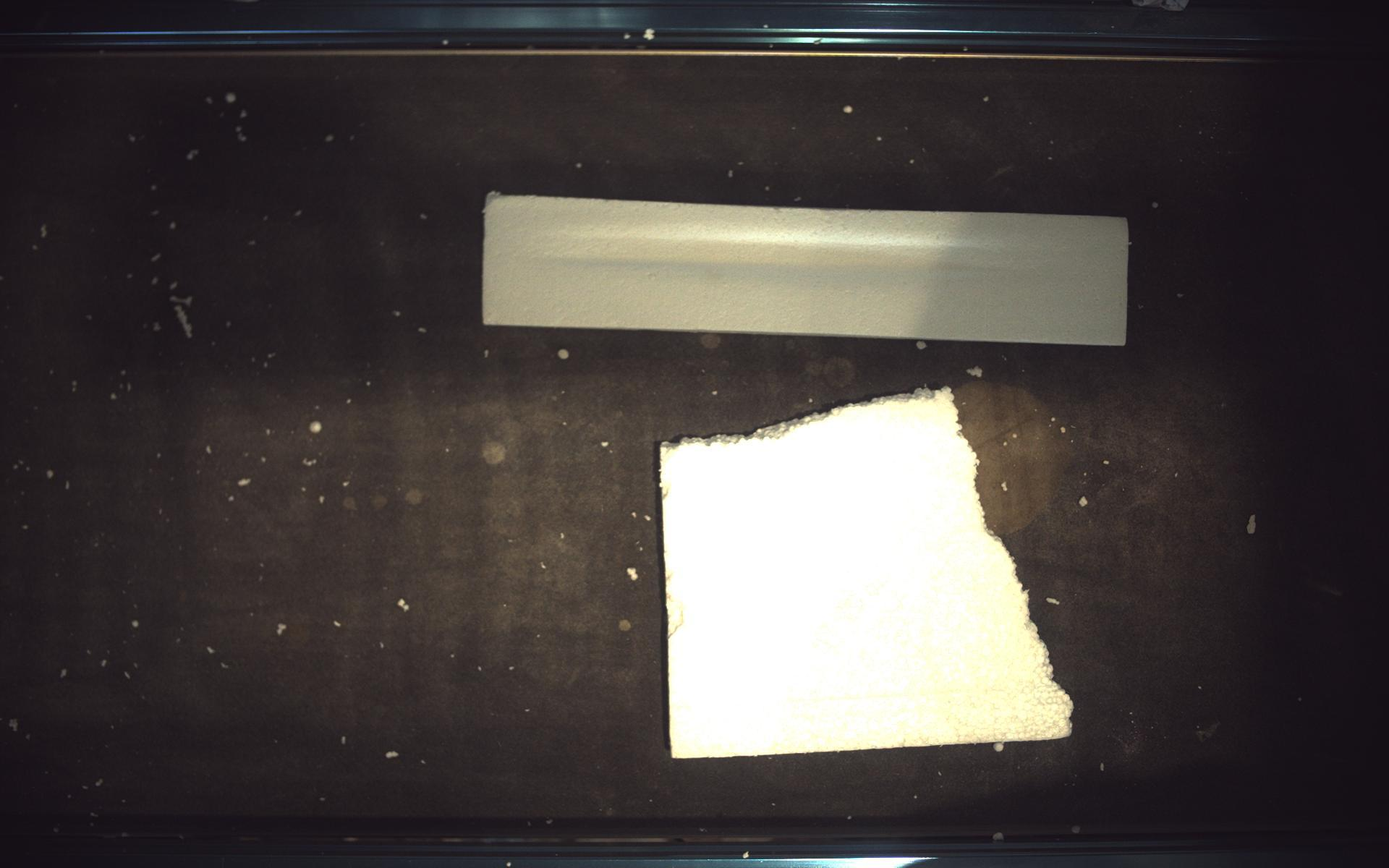foam: (660, 388, 1074, 760), (483, 192, 1131, 345)
